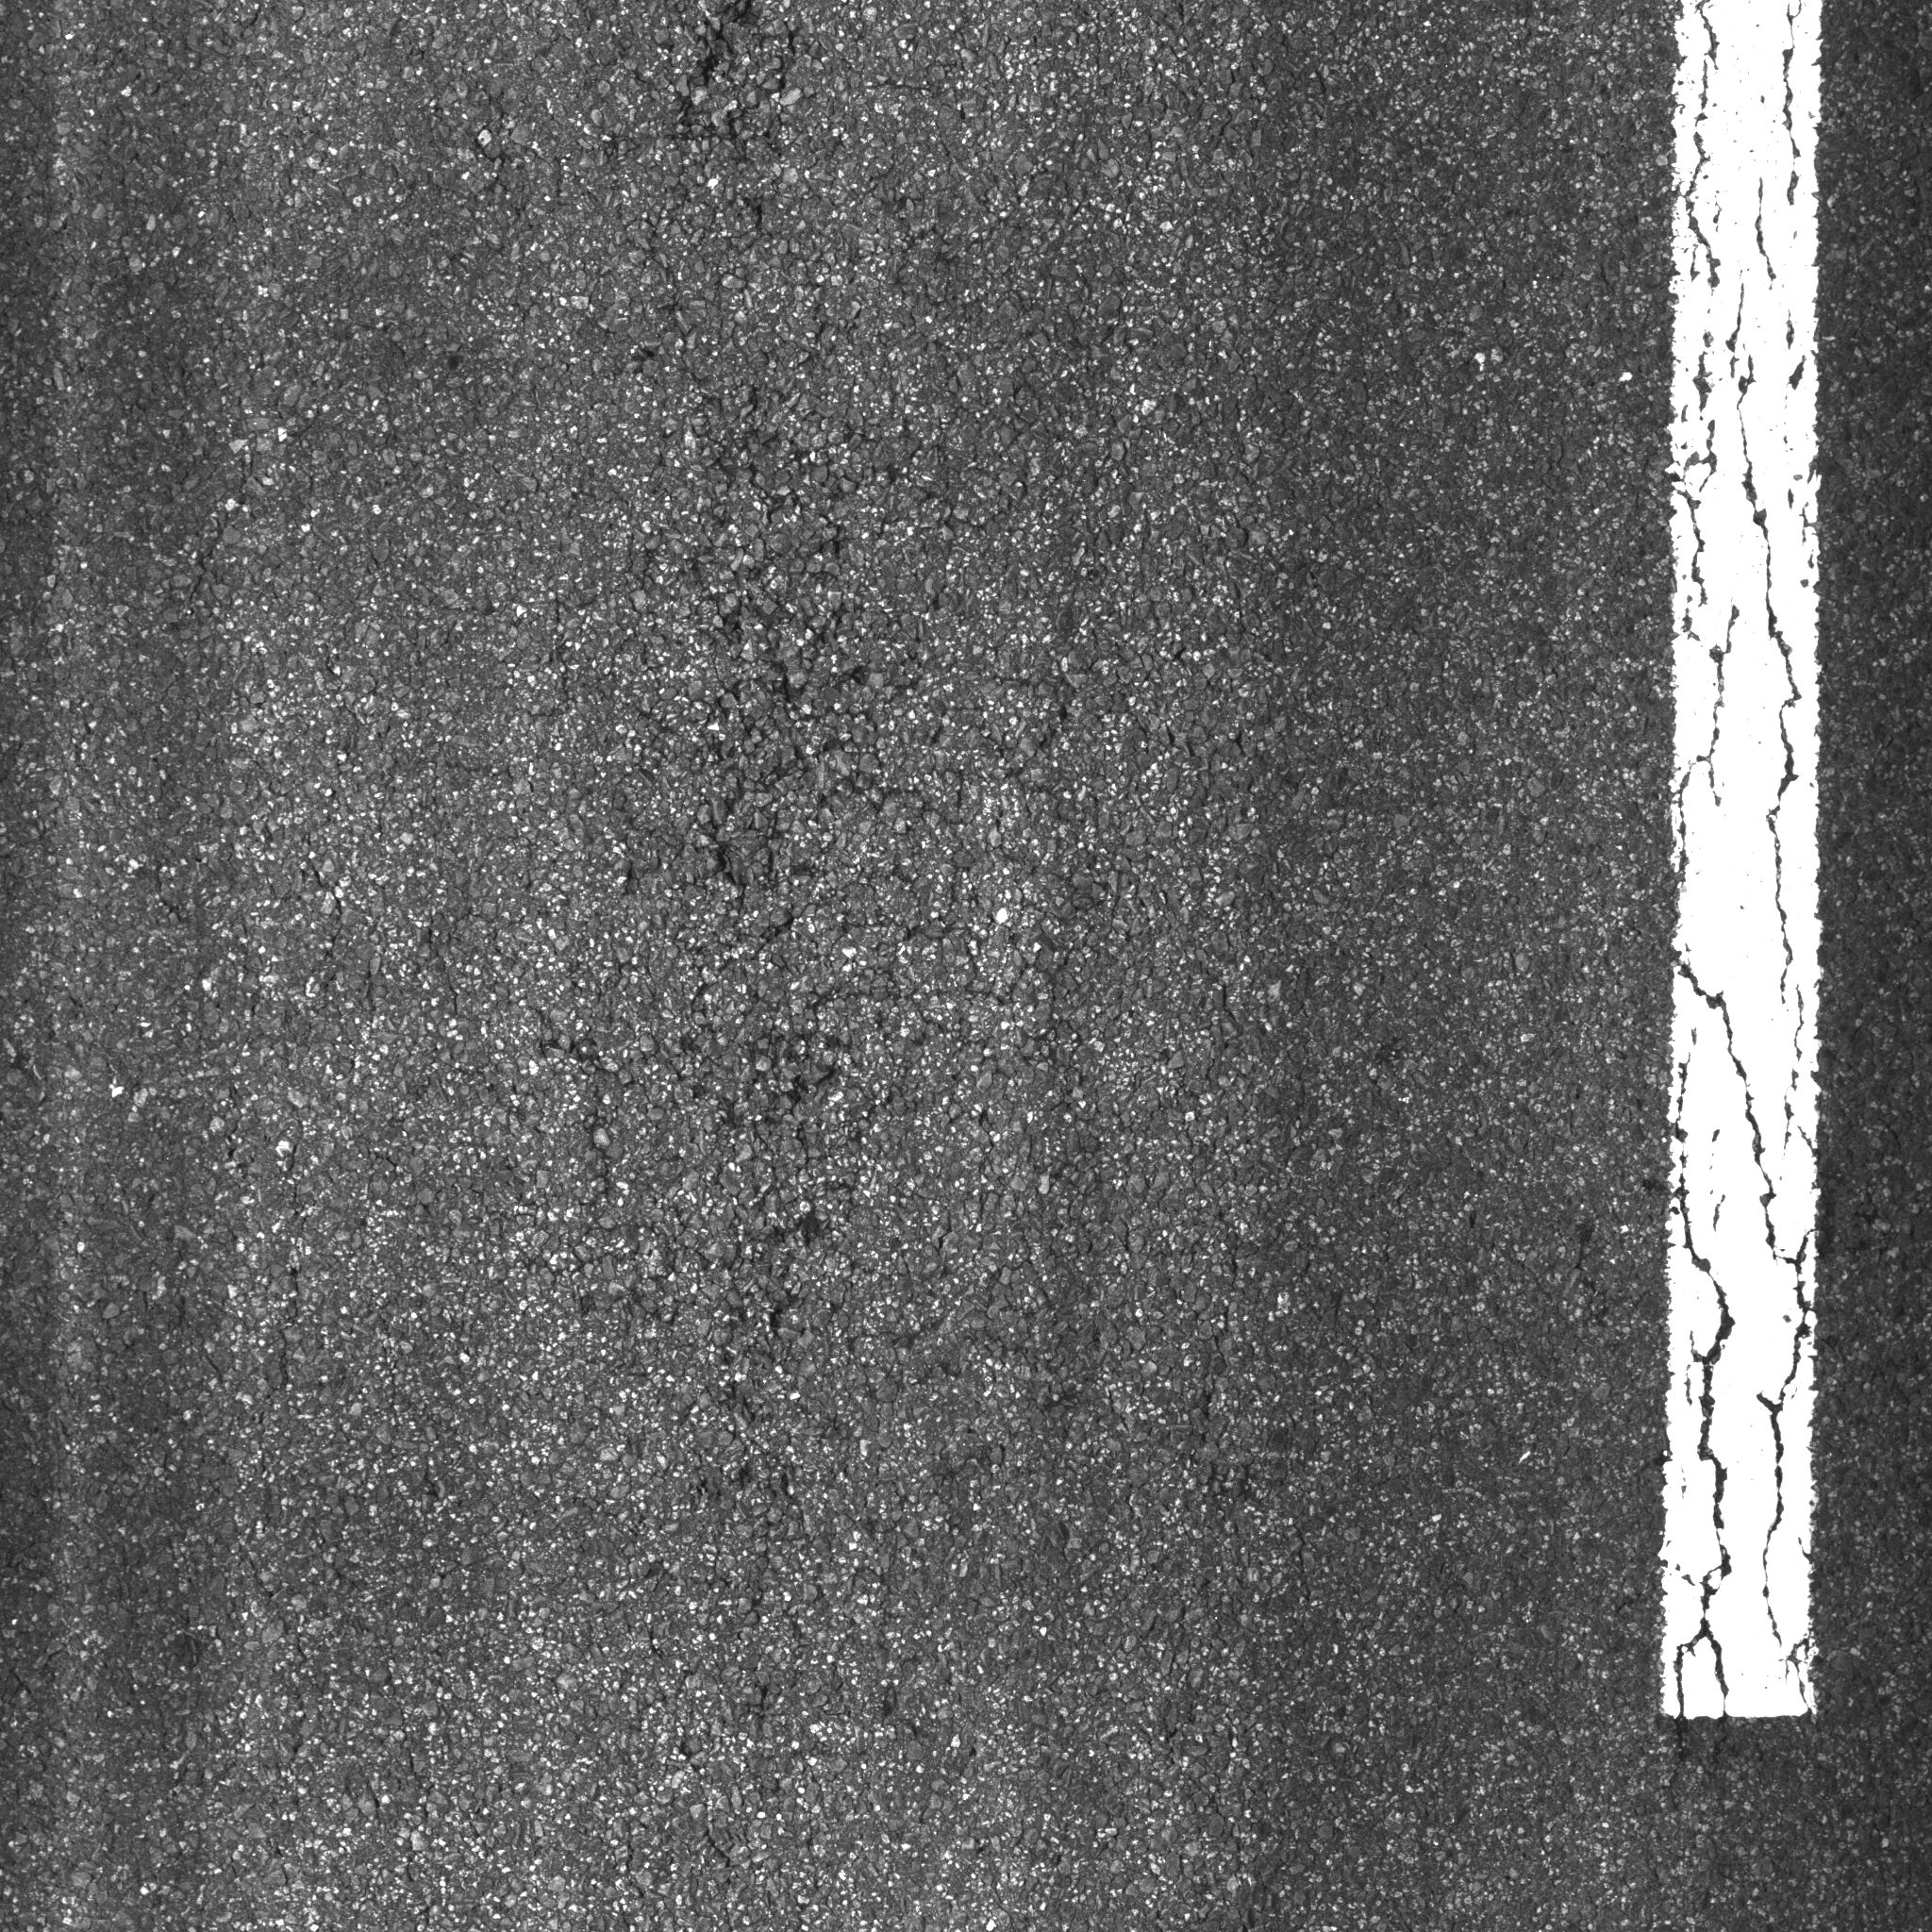alligator: (510, 5, 1099, 1638)
